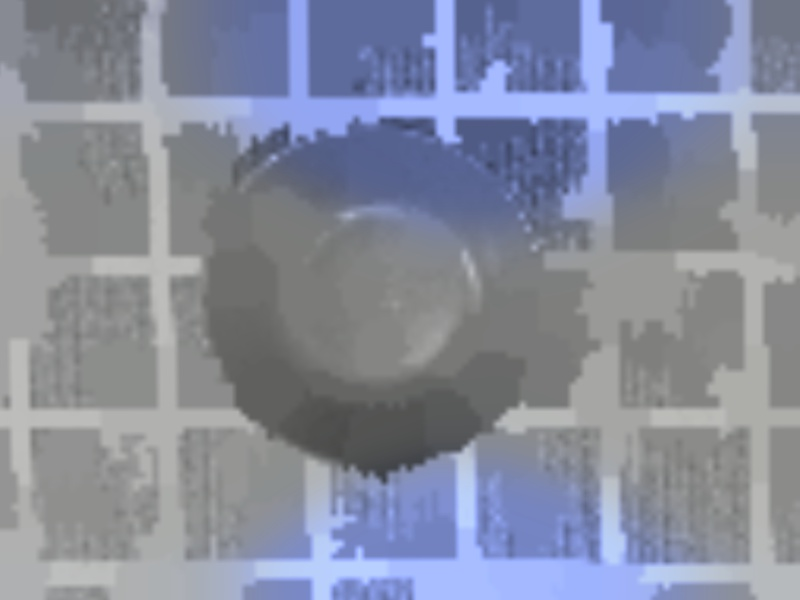bowl_big: (172, 107, 558, 477)
